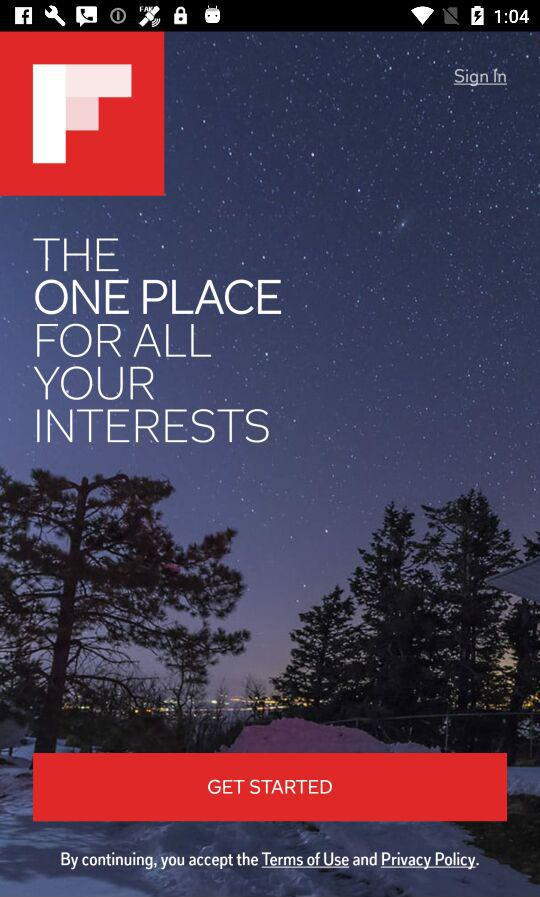BackgroundImage: (1, 33, 540, 897)
Text: (32, 237, 282, 445), (61, 850, 480, 871), (453, 68, 508, 88)
TextButton: (33, 752, 508, 822)
UpperTaskBar: (1, 1, 540, 33)
